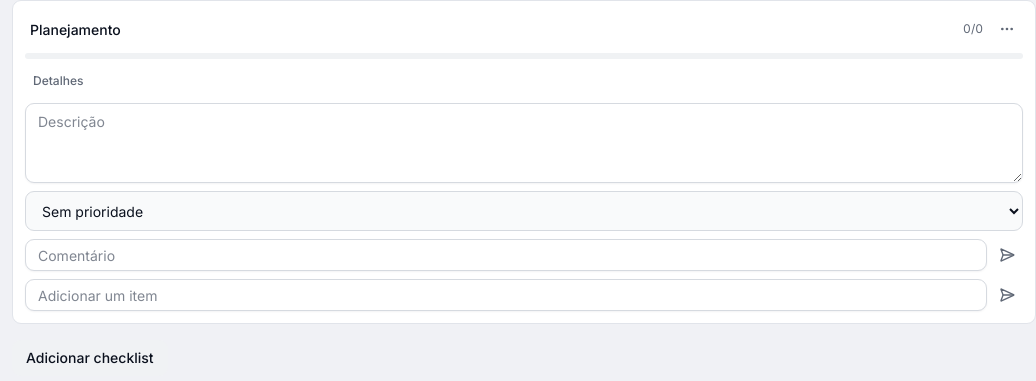
Test: DemandChecklist › minimiza detalhes abertos
Check: the text box labelled "Descrição" is shown, box [25,103,1023,183]
Check: the dropdown named "Prioridade" is shown, box [25,191,1023,231]
What coordinates should you click on to do the following:
click the button "Detalhes"
I would click on:
 (58, 81)
Its box is [25,67,91,95].
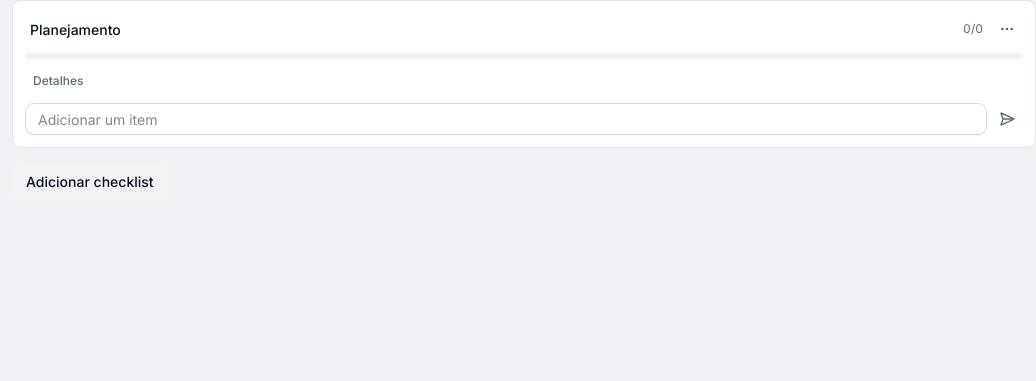
Check: the text box labelled "Descrição" is gone
